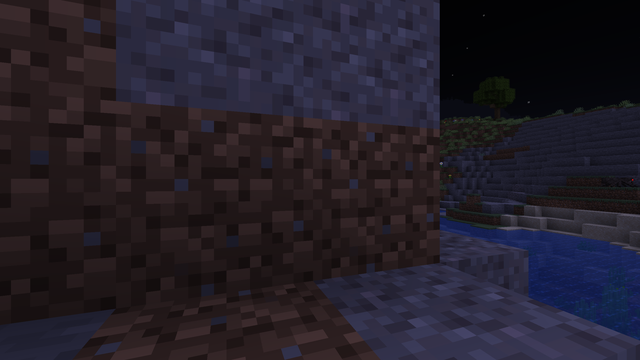araignees: (602, 176, 635, 187)
